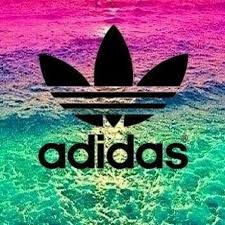adidas: (38, 24, 189, 169)
